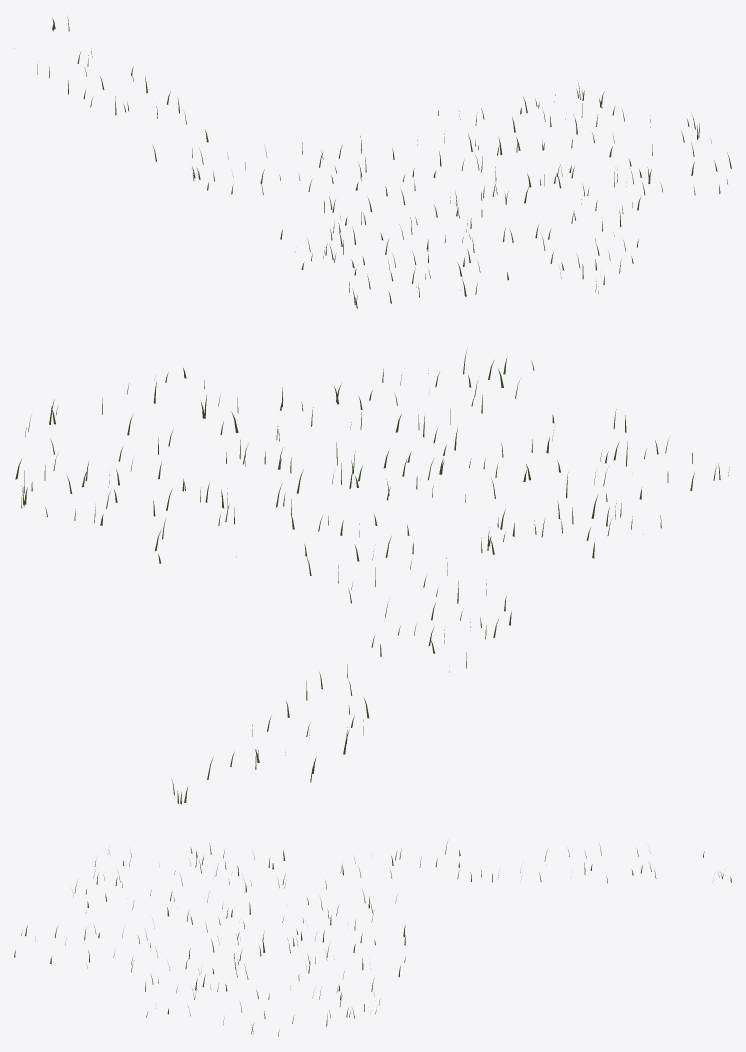
3 renders of one model, top to bottom at view 1: azimuth 30°, elevation 25°; view 2: azimuth 150°, elevation 25°; view 3: azimuth 270°, elevation 25°, orthographic. The views are drawn at different scales.
Visible parts, largest first — view 1: GrassPatch; view 2: GrassPatch; view 3: GrassPatch.
Boxes of the visible parts, left/top/right/bottom form: GrassPatch: left=14, top=17, right=731, bottom=308; GrassPatch: left=15, top=348, right=729, bottom=804; GrassPatch: left=14, top=841, right=731, bottom=1036.
Bounding box in the file's own units: 11.81 × 0.4918 × 19.39.
